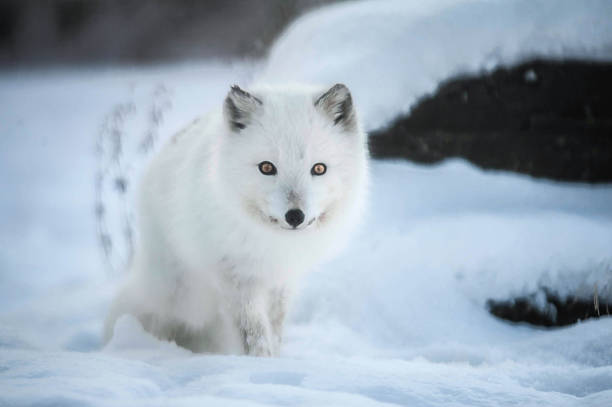arcticfox: (243, 131, 338, 244)
